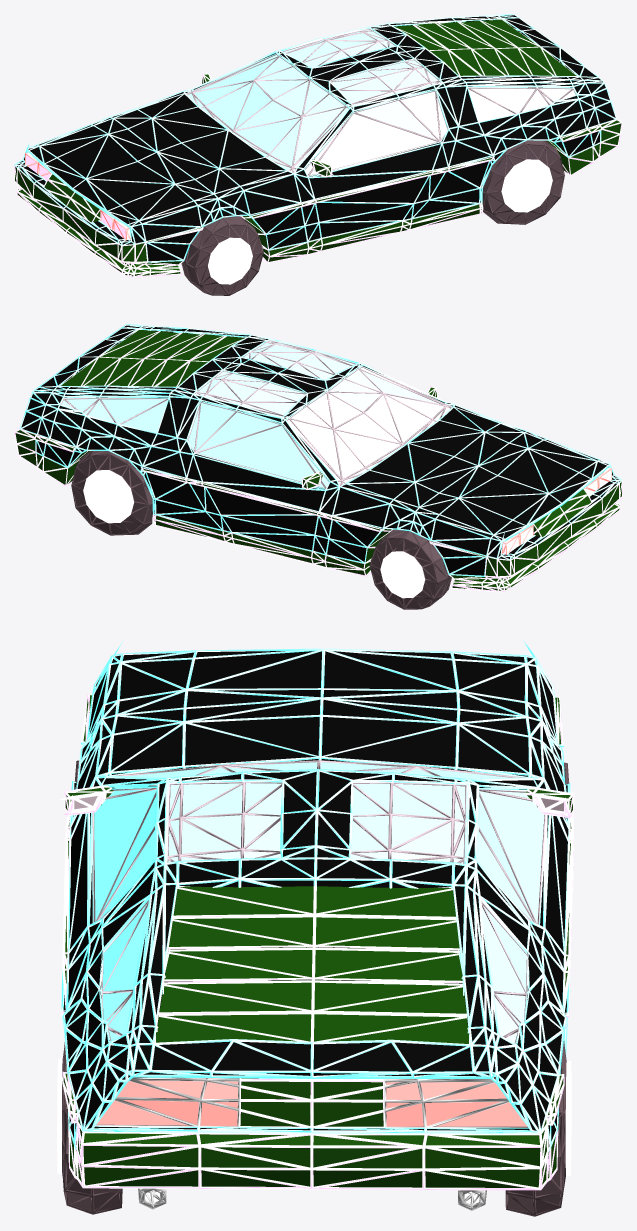
The model's file is delorean.glb.
3 renders of one model, top to bottom at view 1: azimuth 30°, elevation 25°; view 2: azimuth 150°, elevation 25°; view 3: azimuth 270°, elevation 25°, orthographic. The views are drawn at different scales.
Parts seen in each view (by area): view 1: Cube.000_Cube.005, Cylinder.003; view 2: Cube.000_Cube.005, Cylinder.003; view 3: Cube.000_Cube.005, Cylinder.003.
Boxes of the visible parts, box(x1,y1,x2,y2) form: Cube.000_Cube.005: box(14, 14, 622, 277); Cylinder.003: box(181, 140, 564, 295); Cube.000_Cube.005: box(14, 324, 622, 592); Cylinder.003: box(71, 451, 451, 609); Cube.000_Cube.005: box(59, 640, 576, 1210); Cylinder.003: box(57, 760, 573, 1216).
Size of the model in its own units: 3.65 by 1.03 by 1.65.
